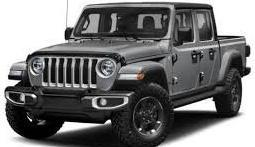Trucks: (6, 5, 252, 147)
